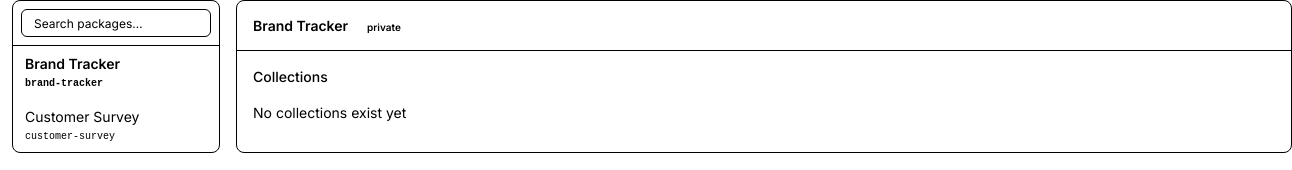
Test: PackagesTab › filters the package list when a search term is entered
The width and height of the screenshot is (1292, 170).
Check: the button with test id "package-row-1" is shown, box [13, 46, 219, 99]
Type "brand" into the field with placeholder "Search packages…". click: point(116, 23)
box: [21, 9, 211, 37]
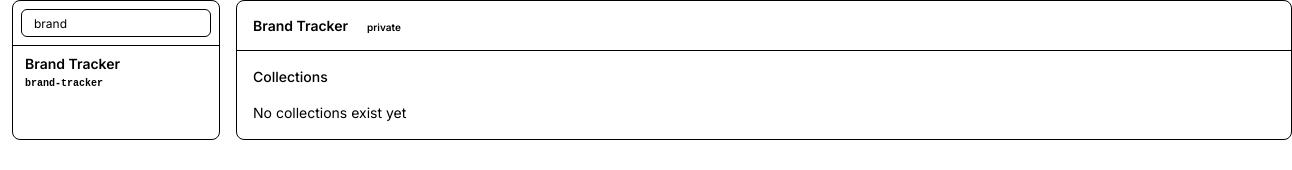
Check: the button with test id "package-row-1" is shown, box [13, 46, 219, 99]
Check: the button with test id "package-row-2" is gone
